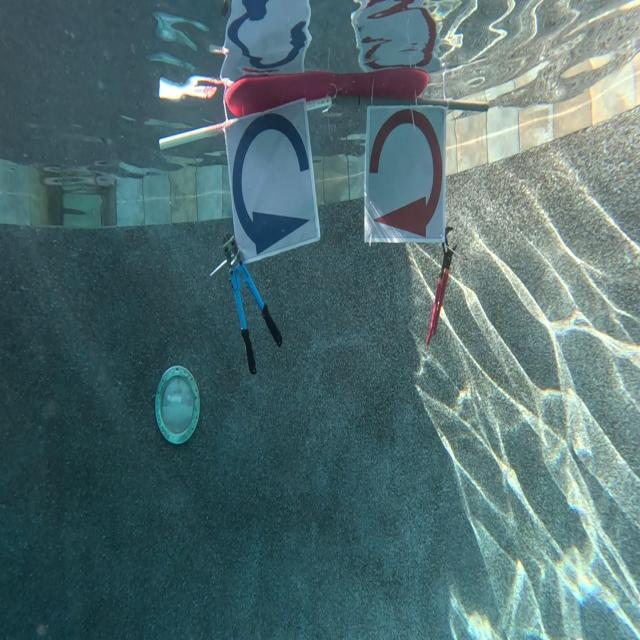blue_side: (212, 98, 322, 260)
red_side: (363, 104, 446, 242)
